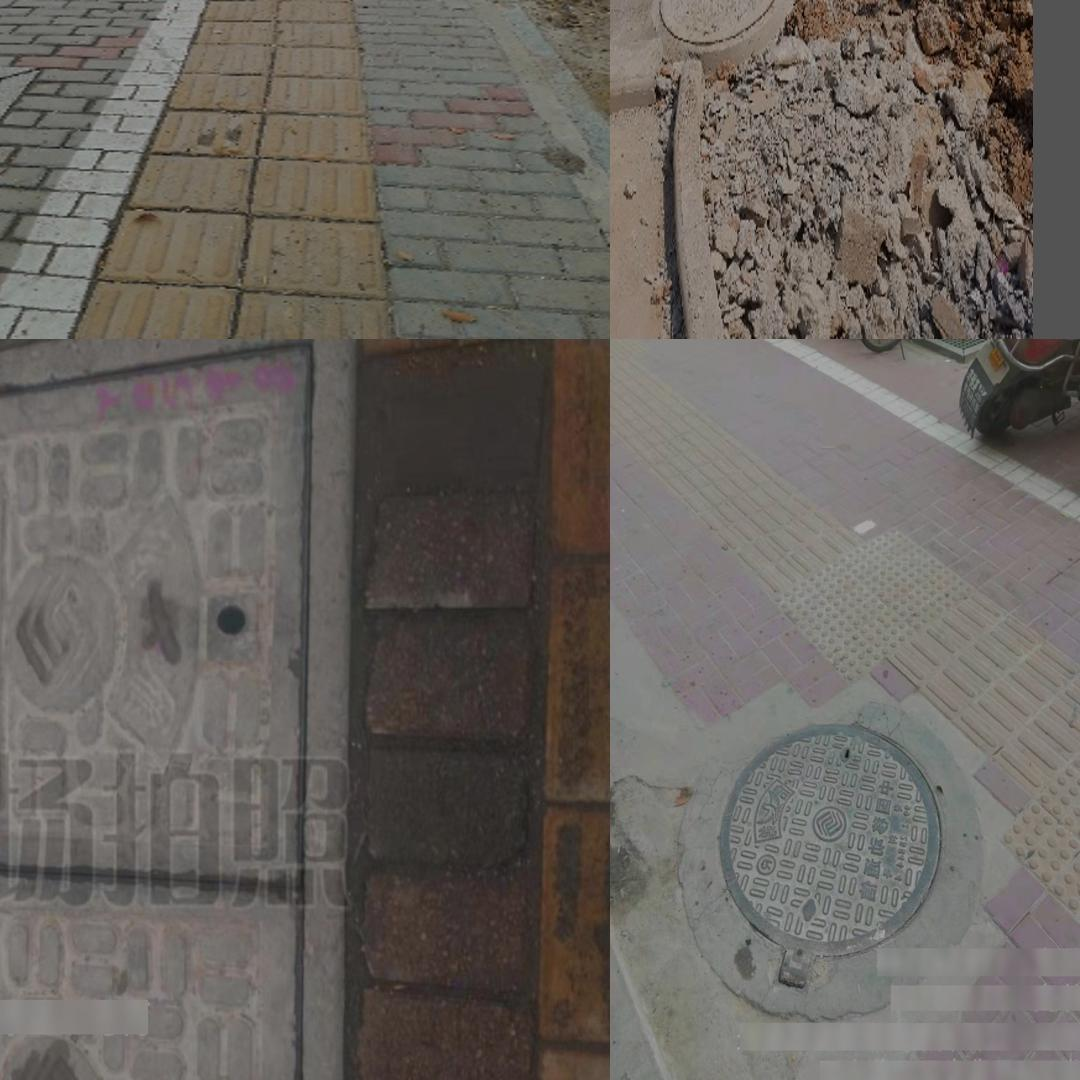good: (0, 341, 353, 1080), (713, 721, 945, 992), (652, 0, 789, 48)
